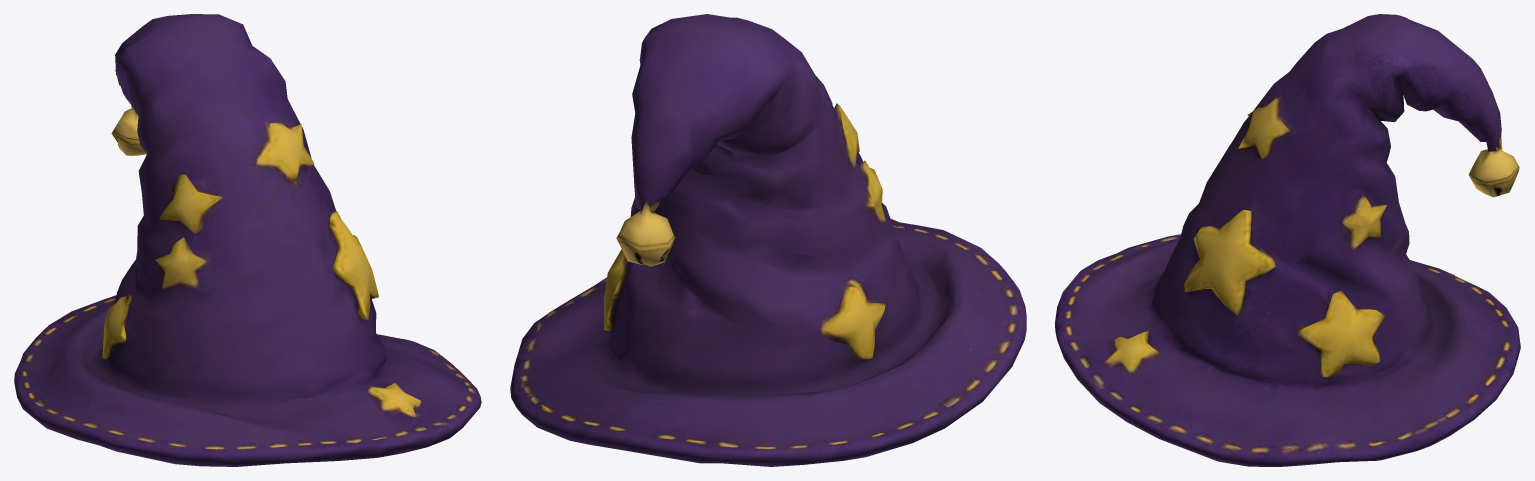
The model's file is wizard.glb.
The picture shows the model from 3 angles, left to right: view 1: azimuth 30°, elevation 25°; view 2: azimuth 150°, elevation 25°; view 3: azimuth 270°, elevation 25°; orthographic projection. The views are drawn at different scales.
Parts seen in each view (by area): view 1: node_23b52052-20c2-4971-b061-c16e1a06f87b; view 2: node_23b52052-20c2-4971-b061-c16e1a06f87b; view 3: node_23b52052-20c2-4971-b061-c16e1a06f87b.
Part boxes in pixels (bbox=[...]): node_23b52052-20c2-4971-b061-c16e1a06f87b: bbox=[14, 14, 481, 466]; node_23b52052-20c2-4971-b061-c16e1a06f87b: bbox=[510, 14, 1026, 466]; node_23b52052-20c2-4971-b061-c16e1a06f87b: bbox=[1055, 14, 1520, 466].
Size of the model in its own units: 0.9691 by 0.8501 by 1.
1 material, 1 textured.
